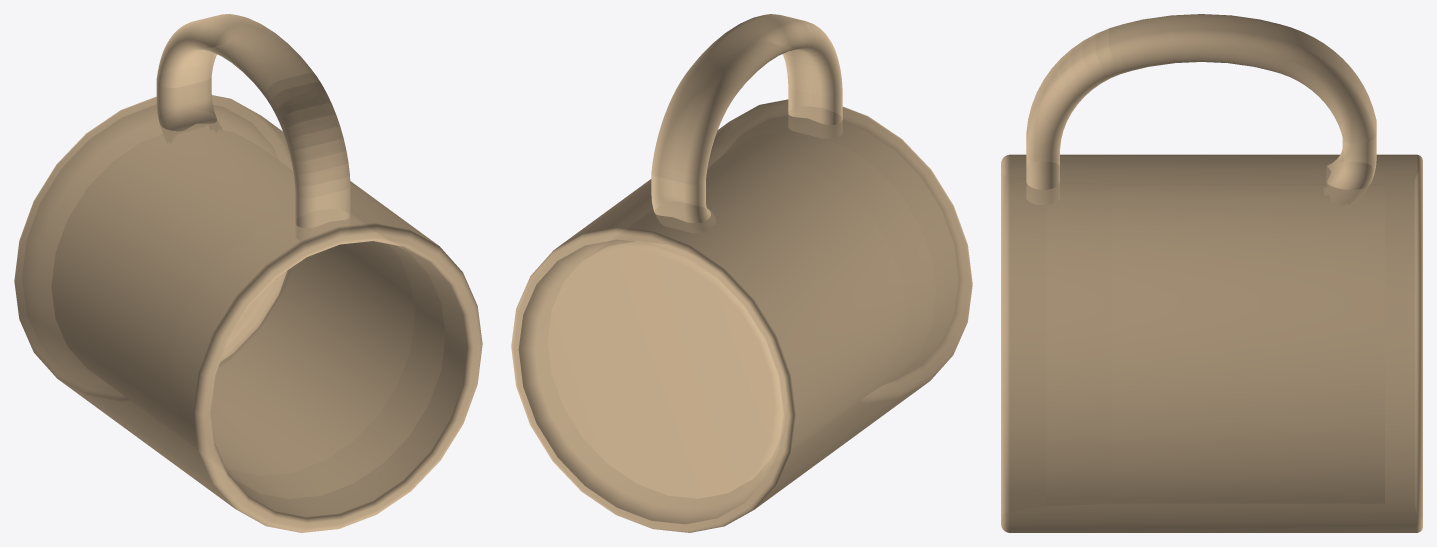
The model's file is model_scale.obj.
3 renders of one model, left to right at view 1: azimuth 30°, elevation 25°; view 2: azimuth 150°, elevation 25°; view 3: azimuth 270°, elevation 25°, orthographic. The views are drawn at different scales.
Visible parts, largest first — view 1: mesh1_mesh1-geometry, mesh2_mesh2-geometry; view 2: mesh1_mesh1-geometry, mesh2_mesh2-geometry; view 3: mesh1_mesh1-geometry, mesh2_mesh2-geometry.
Boxes of the visible parts, left/top/right/bottom form: mesh1_mesh1-geometry: left=14, top=95, right=482, bottom=532; mesh2_mesh2-geometry: left=156, top=14, right=350, bottom=241; mesh1_mesh1-geometry: left=511, top=99, right=972, bottom=532; mesh2_mesh2-geometry: left=651, top=14, right=842, bottom=232; mesh1_mesh1-geometry: left=1001, top=154, right=1422, bottom=532; mesh2_mesh2-geometry: left=1026, top=14, right=1376, bottom=205.
Bounding box in the file's own units: 0.0867 × 0.1242 × 0.0963.
